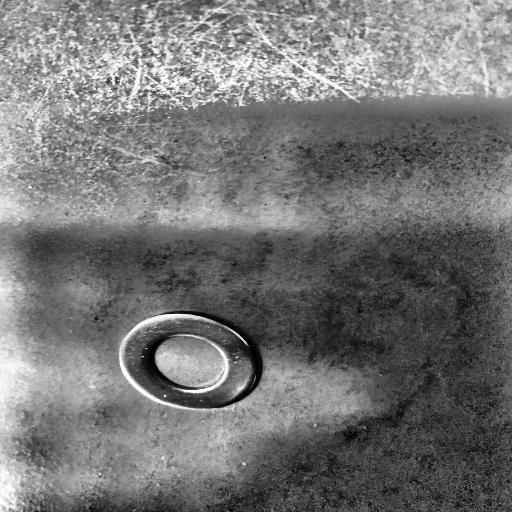Washer: (118, 312, 263, 411)
